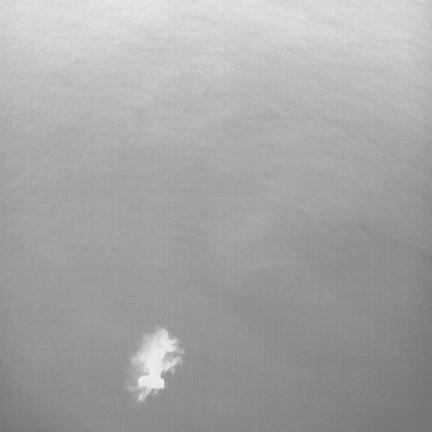flukeprints: (128, 327, 184, 402)
